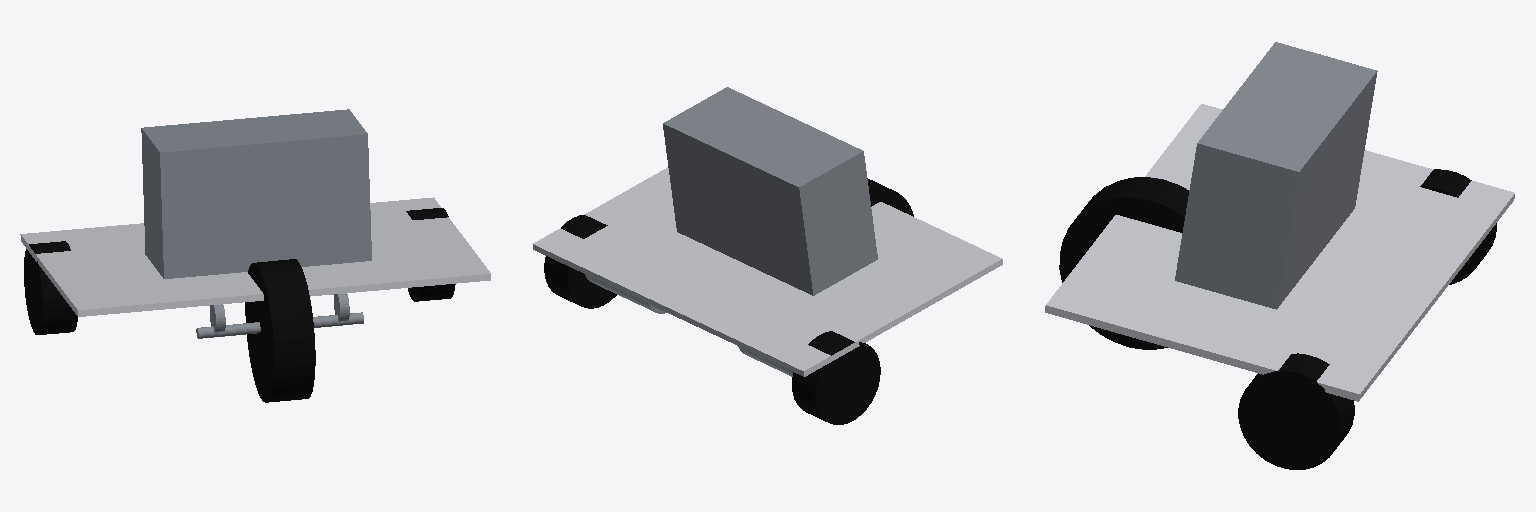
URDF robot description (device_20261026_175857):
<?xml version="1.0" encoding="utf-8"?>
<!-- Dolly Forge 조립품 'device_20261026_175857' — 총질량 3.63135 kg, 부품 10, 관절 10 -->
<!-- URDF 는 트리만 표현한다. 닫힌 고리를 만드는 관절 continuous_8 은(는) 생략됨 (USDA 에는 포함) -->
<robot name="device_20261026_175857">
  <material name="al6061_t6">
    <color rgba="0.8 0.81 0.83 1" />
  </material>
  <material name="steel_s235">
    <color rgba="0.55 0.57 0.6 1" />
  </material>
  <material name="natural_rubber">
    <color rgba="0.08 0.08 0.08 1" />
  </material>
  <link name="base_link" />
  <joint name="base_to_bt_sla_12_7_10" type="fixed">
    <parent link="base_link" />
    <child link="bt_sla_12_7_10" />
    <origin xyz="0 0 0" rpy="1.419304 0.0004203001 -0.3156531" />
  </joint>
  <link name="pl_al6061_5_300x200_1">
    <!-- 알루미늄 판 6061 5t 300×200 mm — 0.8100001 kg, 항복강도 276 MPa -->
    <inertial>
      <origin xyz="-9.536743E-07 -0.04950014 -0.009999812" rpy="-1.490116E-08 2.26777E-07 7.450579E-09" />
      <mass value="0.8100001" />
      <inertia ixx="0.002701688" ixy="0" ixz="0" iyy="0.008775001" iyz="0" izz="0.006076688" />
    </inertial>
    <visual>
      <origin xyz="-9.536743E-07 -0.04950014 -0.009999812" rpy="-1.490116E-08 2.26777E-07 7.450579E-09" />
      <geometry>
        <box size="0.3 0.005 0.2" />
      </geometry>
      <material name="al6061_t6" />
    </visual>
    <collision>
      <origin xyz="-9.536743E-07 -0.04950014 -0.009999812" rpy="-1.490116E-08 2.26777E-07 7.450579E-09" />
      <geometry>
        <box size="0.3 0.005 0.2" />
      </geometry>
    </collision>
  </link>
  <link name="mt_jgb37_100_2">
    <!-- DC 기어드 모터 12V 100RPM — 0.19 kg, 항복강도 235 MPa -->
    <inertial>
      <origin xyz="1.907349E-06 7.152557E-07 -2.264977E-06" rpy="3.036234E-06 1.570796 0" />
      <mass value="0.19" />
      <inertia ixx="9.833687E-05" ixy="0" ixz="0" iyy="9.833687E-05" iyz="0" izz="3.251375E-05" />
    </inertial>
    <visual>
      <origin xyz="1.907349E-06 7.152557E-07 -2.264977E-06" rpy="3.036234E-06 1.570796 0" />
      <geometry>
        <cylinder radius="0.0185" length="0.072" />
      </geometry>
      <material name="steel_s235" />
    </visual>
    <collision>
      <origin xyz="1.907349E-06 7.152557E-07 -2.264977E-06" rpy="3.036234E-06 1.570796 0" />
      <geometry>
        <cylinder radius="0.0185" length="0.072" />
      </geometry>
    </collision>
  </link>
  <link name="wh_65_d6_3">
    <!-- 고무 바퀴 65 mm — 0.045 kg, 항복강도 15 MPa -->
    <inertial>
      <origin xyz="9.536743E-07 5.662441E-07 -6.735325E-06" rpy="-1.570762 0.5358441 -1.570773" />
      <mass value="0.045" />
      <inertia ixx="1.441781E-05" ixy="0" ixz="0" iyy="1.441781E-05" iyz="0" izz="2.376562E-05" />
    </inertial>
    <visual>
      <origin xyz="9.536743E-07 5.662441E-07 -6.735325E-06" rpy="-1.570762 0.5358441 -1.570773" />
      <geometry>
        <cylinder radius="0.0325" length="0.026" />
      </geometry>
      <material name="natural_rubber" />
    </visual>
    <collision>
      <origin xyz="9.536743E-07 5.662441E-07 -6.735325E-06" rpy="-1.570762 0.5358441 -1.570773" />
      <geometry>
        <cylinder radius="0.0325" length="0.026" />
      </geometry>
    </collision>
  </link>
  <link name="mt_jgb37_100_4">
    <!-- DC 기어드 모터 12V 100RPM — 0.19 kg, 항복강도 235 MPa -->
    <inertial>
      <origin xyz="1.907349E-06 6.854534E-07 -1.311302E-06" rpy="5.473711E-06 1.570796 0" />
      <mass value="0.19" />
      <inertia ixx="9.833687E-05" ixy="0" ixz="0" iyy="9.833687E-05" iyz="0" izz="3.251375E-05" />
    </inertial>
    <visual>
      <origin xyz="1.907349E-06 6.854534E-07 -1.311302E-06" rpy="5.473711E-06 1.570796 0" />
      <geometry>
        <cylinder radius="0.0185" length="0.072" />
      </geometry>
      <material name="steel_s235" />
    </visual>
    <collision>
      <origin xyz="1.907349E-06 6.854534E-07 -1.311302E-06" rpy="5.473711E-06 1.570796 0" />
      <geometry>
        <cylinder radius="0.0185" length="0.072" />
      </geometry>
    </collision>
  </link>
  <link name="wh_65_d6_5">
    <!-- 고무 바퀴 65 mm — 0.045 kg, 항복강도 15 MPa -->
    <inertial>
      <origin xyz="9.536743E-07 0 -5.304813E-06" rpy="-1.570885 -0.3415397 -1.57078" />
      <mass value="0.045" />
      <inertia ixx="1.441781E-05" ixy="0" ixz="0" iyy="1.441781E-05" iyz="0" izz="2.376562E-05" />
    </inertial>
    <visual>
      <origin xyz="9.536743E-07 0 -5.304813E-06" rpy="-1.570885 -0.3415397 -1.57078" />
      <geometry>
        <cylinder radius="0.0325" length="0.026" />
      </geometry>
      <material name="natural_rubber" />
    </visual>
    <collision>
      <origin xyz="9.536743E-07 0 -5.304813E-06" rpy="-1.570885 -0.3415397 -1.57078" />
      <geometry>
        <cylinder radius="0.0325" length="0.026" />
      </geometry>
    </collision>
  </link>
  <link name="sh_suj2_8_120_6">
    <!-- 리니어 샤프트 Ø8 × 120 mm — 0.04735009 kg, 항복강도 235 MPa -->
    <inertial>
      <origin xyz="0.04500008 2.384186E-07 1.072884E-06" rpy="-1.843926E-08 1.570796 0" />
      <mass value="0.04735009" />
      <inertia ixx="5.700951E-05" ixy="0" ixz="0" iyy="5.700951E-05" iyz="0" izz="3.788008E-07" />
    </inertial>
    <visual>
      <origin xyz="0.04500008 2.384186E-07 1.072884E-06" rpy="-1.843926E-08 1.570796 0" />
      <geometry>
        <cylinder radius="0.004" length="0.12" />
      </geometry>
      <material name="steel_s235" />
    </visual>
    <collision>
      <origin xyz="0.04500008 2.384186E-07 1.072884E-06" rpy="-1.843926E-08 1.570796 0" />
      <geometry>
        <cylinder radius="0.004" length="0.12" />
      </geometry>
    </collision>
  </link>
  <link name="brg_608zz_7">
    <!-- 볼베어링 608ZZ — 0.012 kg, 항복강도 235 MPa -->
    <inertial>
      <origin xyz="-1.239777E-05 -0.007554144 4.440546E-05" rpy="0.0001847152 1.570796 0" />
      <mass value="0.012" />
      <inertia ixx="4.12E-07" ixy="0" ixz="0" iyy="4.12E-07" iyz="0" izz="7.26E-07" />
    </inertial>
    <visual>
      <origin xyz="-1.239777E-05 -0.007554144 4.440546E-05" rpy="0.0001847152 1.570796 0" />
      <geometry>
        <cylinder radius="0.011" length="0.007" />
      </geometry>
      <material name="steel_s235" />
    </visual>
    <collision>
      <origin xyz="-1.239777E-05 -0.007554144 4.440546E-05" rpy="0.0001847152 1.570796 0" />
      <geometry>
        <cylinder radius="0.011" length="0.007" />
      </geometry>
    </collision>
  </link>
  <link name="brg_608zz_8">
    <!-- 볼베어링 608ZZ — 0.012 kg, 항복강도 235 MPa -->
    <inertial>
      <origin xyz="0 -0.007484287 4.136562E-05" rpy="1.578184 1.570376 1.578422" />
      <mass value="0.012" />
      <inertia ixx="4.12E-07" ixy="0" ixz="0" iyy="4.12E-07" iyz="0" izz="7.26E-07" />
    </inertial>
    <visual>
      <origin xyz="0 -0.007484287 4.136562E-05" rpy="1.578184 1.570376 1.578422" />
      <geometry>
        <cylinder radius="0.011" length="0.007" />
      </geometry>
      <material name="steel_s235" />
    </visual>
    <collision>
      <origin xyz="0 -0.007484287 4.136562E-05" rpy="1.578184 1.570376 1.578422" />
      <geometry>
        <cylinder radius="0.011" length="0.007" />
      </geometry>
    </collision>
  </link>
  <link name="wh_100_b8_9">
    <!-- 우레탄 바퀴 100 mm — 0.18 kg, 항복강도 15 MPa -->
    <inertial>
      <origin xyz="-2.574921E-05 -0.003520906 0.001567364" rpy="-1.569557 0.8125255 -1.571809" />
      <mass value="0.18" />
      <inertia ixx="0.000126" ixy="0" ixz="0" iyy="0.000126" iyz="0" izz="0.000225" />
    </inertial>
    <visual>
      <origin xyz="-2.574921E-05 -0.003520906 0.001567364" rpy="-1.569557 0.8125255 -1.571809" />
      <geometry>
        <cylinder radius="0.05" length="0.03" />
      </geometry>
      <material name="natural_rubber" />
    </visual>
    <collision>
      <origin xyz="-2.574921E-05 -0.003520906 0.001567364" rpy="-1.569557 0.8125255 -1.571809" />
      <geometry>
        <cylinder radius="0.05" length="0.03" />
      </geometry>
    </collision>
  </link>
  <link name="bt_sla_12_7_10">
    <!-- 납축전지 12V 7Ah — 2.1 kg, 항복강도 235 MPa -->
    <inertial>
      <origin xyz="9.536743E-07 -8.940697E-08 0" rpy="0 1.396984E-08 0" />
      <mass value="2.1" />
      <inertia ixx="0.002285675" ixy="0" ixz="0" iyy="0.004729549" iyz="0" izz="0.005536475" />
    </inertial>
    <visual>
      <origin xyz="9.536743E-07 -8.940697E-08 0" rpy="0 1.396984E-08 0" />
      <geometry>
        <box size="0.151 0.094 0.065" />
      </geometry>
      <material name="steel_s235" />
    </visual>
    <collision>
      <origin xyz="9.536743E-07 -8.940697E-08 0" rpy="0 1.396984E-08 0" />
      <geometry>
        <box size="0.151 0.094 0.065" />
      </geometry>
    </collision>
  </link>
  <joint name="fixed_10" type="fixed">
    <parent link="bt_sla_12_7_10" />
    <child link="pl_al6061_5_300x200_1" />
    <origin xyz="9.536743E-07 5.187094E-05 -4.786253E-05" rpy="-0.001028646 -2.853352E-06 1.335122E-06" />
  </joint>
  <joint name="fixed_1" type="fixed">
    <parent link="pl_al6061_5_300x200_1" />
    <child link="mt_jgb37_100_2" />
    <origin xyz="-0.08500099 -0.06950012 -0.07000089" rpy="0 -1.257285E-08 0" />
  </joint>
  <joint name="fixed_3" type="fixed">
    <parent link="pl_al6061_5_300x200_1" />
    <child link="mt_jgb37_100_4" />
    <origin xyz="0.08499813 -0.06950015 -0.07000035" rpy="0 -1.257285E-08 0" />
  </joint>
  <joint name="fixed_5" type="fixed">
    <parent link="pl_al6061_5_300x200_1" />
    <child link="brg_608zz_7" />
    <origin xyz="-0.04500103 -0.0595001 0.06999958" rpy="0 -1.257285E-08 0" />
  </joint>
  <joint name="fixed_7" type="fixed">
    <parent link="pl_al6061_5_300x200_1" />
    <child link="brg_608zz_8" />
    <origin xyz="0.04499912 -0.05950007 0.06999969" rpy="0 -1.257285E-08 0" />
  </joint>
  <joint name="continuous_2" type="continuous">
    <parent link="mt_jgb37_100_2" />
    <child link="wh_65_d6_3" />
    <origin xyz="-0.05199909 -0.007499188 -6.616116E-06" rpy="3.94882E-05 -8.413283E-05 -3.019146E-06" />
    <axis xyz="1 0 0" />
    <limit effort="0.45" velocity="10.47198" />
    <dynamics damping="0.01" friction="0.0" />
  </joint>
  <joint name="continuous_4" type="continuous">
    <parent link="mt_jgb37_100_4" />
    <child link="wh_65_d6_5" />
    <origin xyz="0.05200291 -0.007499531 -6.914139E-06" rpy="4.103751E-05 0.0001017345 -5.48154E-06" />
    <axis xyz="1 0 0" />
    <limit effort="0.45" velocity="10.47198" />
    <dynamics damping="0.01" friction="0.0" />
  </joint>
  <joint name="continuous_6" type="continuous">
    <parent link="brg_608zz_7" />
    <child link="sh_suj2_8_120_6" />
    <origin xyz="-1.621246E-05 -0.01822811 0.00014323" rpy="0.4093883 5.399735E-05 0.004676434" />
    <axis xyz="1 0 0" />
    <limit effort="0" velocity="100" />
    <dynamics damping="0.01" friction="0.0" />
  </joint>
  <joint name="continuous_9" type="continuous">
    <parent link="sh_suj2_8_120_6" />
    <child link="wh_100_b8_9" />
    <origin xyz="0.04500008 2.384186E-07 1.072884E-06" rpy="0 1.024455E-08 7.450581E-09" />
    <axis xyz="1 0 0" />
    <limit effort="0" velocity="100" />
    <dynamics damping="0.01" friction="0.0" />
  </joint>
</robot>

--- Render facts (derived) ---
Views: 3 orthographic renders of the robot side by side, from view 1: azimuth 30°, elevation 25°; view 2: azimuth 150°, elevation 25°; view 3: azimuth 270°, elevation 25°.
Robot: device_20261026_175857 — 11 links, 10 joints (4 continuous, 6 fixed); root link base_link; default pose: all joints at 0.
Links seen in each view (by area): view 1: bt_sla_12_7_10, pl_al6061_5_300x200_1, wh_100_b8_9, wh_65_d6_3, sh_suj2_8_120_6, wh_65_d6_5; view 2: pl_al6061_5_300x200_1, bt_sla_12_7_10, wh_65_d6_3, wh_65_d6_5, wh_100_b8_9; view 3: pl_al6061_5_300x200_1, bt_sla_12_7_10, wh_65_d6_5, wh_100_b8_9, wh_65_d6_3.
Boxes of the visible links, x1,y1,x2,y2 form: bt_sla_12_7_10: (141, 109, 371, 278); pl_al6061_5_300x200_1: (20, 197, 490, 316); wh_100_b8_9: (245, 259, 315, 402); wh_65_d6_3: (24, 241, 77, 334); sh_suj2_8_120_6: (196, 312, 363, 338); wh_65_d6_5: (406, 208, 455, 301); pl_al6061_5_300x200_1: (533, 167, 1002, 376); bt_sla_12_7_10: (663, 87, 877, 295); wh_65_d6_3: (792, 331, 880, 424); wh_65_d6_5: (544, 215, 616, 308); wh_100_b8_9: (867, 178, 913, 216); pl_al6061_5_300x200_1: (1045, 104, 1514, 401); bt_sla_12_7_10: (1175, 42, 1377, 309); wh_65_d6_5: (1238, 353, 1354, 469); wh_100_b8_9: (1059, 177, 1188, 349); wh_65_d6_3: (1420, 169, 1496, 284).
Size in the robot's own frame: 0.3468 by 0.2818 by 0.171 metres.
Geometry: primitives only (box / cylinder / sphere), no mesh files.
